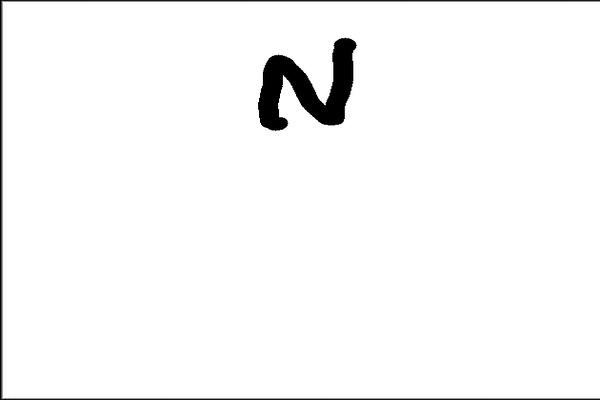N: (252, 29, 358, 139)
